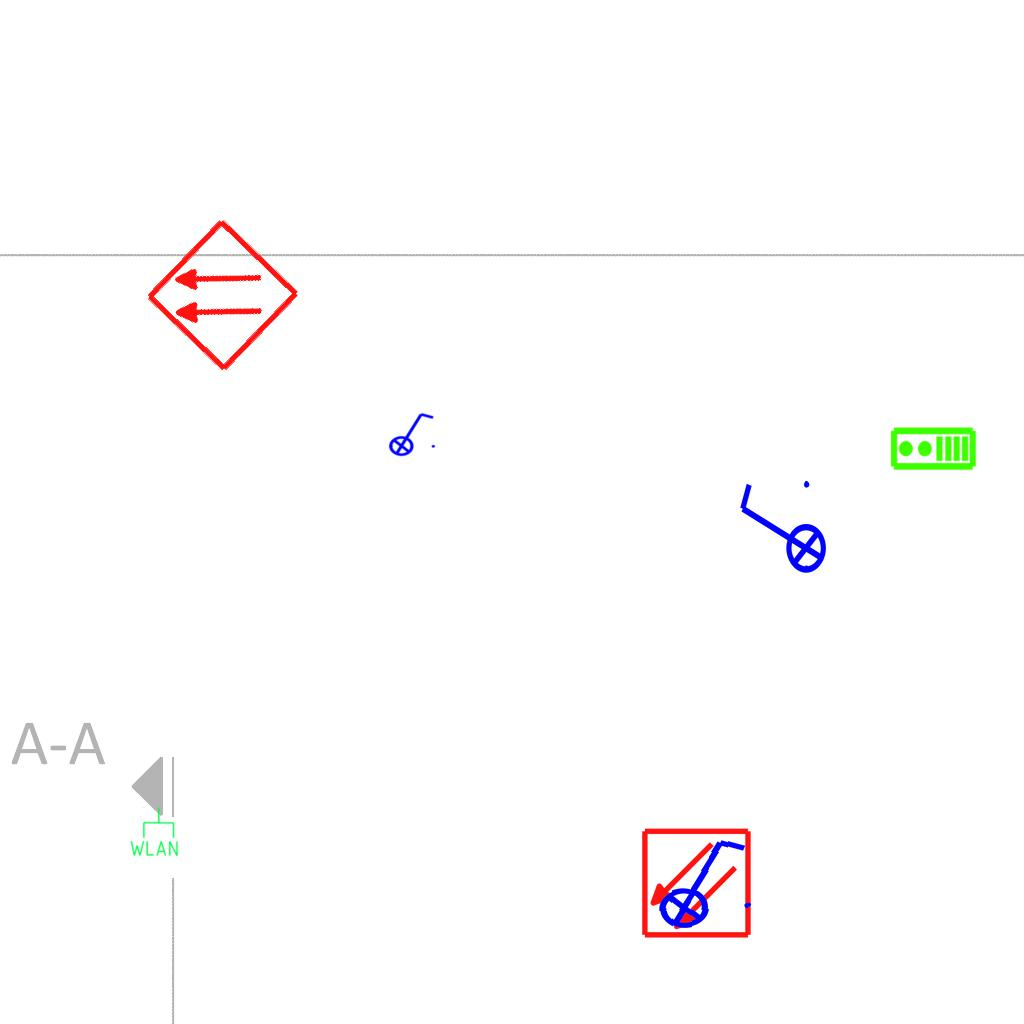Ausschalter_beleuchtet: (641, 830, 759, 932), (732, 475, 828, 587), (382, 409, 438, 457)
Gegensprechanlage_mit_Video: (889, 426, 977, 473)
RMO_Rauchmelder_optischer: (142, 215, 303, 376), (640, 827, 753, 940)
WLAN: (128, 806, 180, 858)
